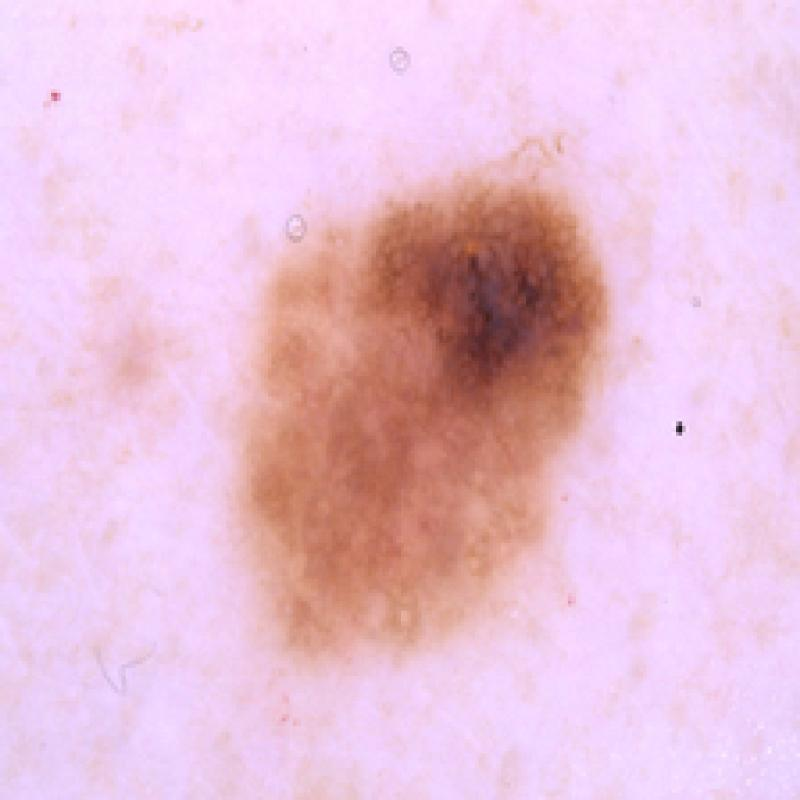benign: (192, 128, 641, 712)
